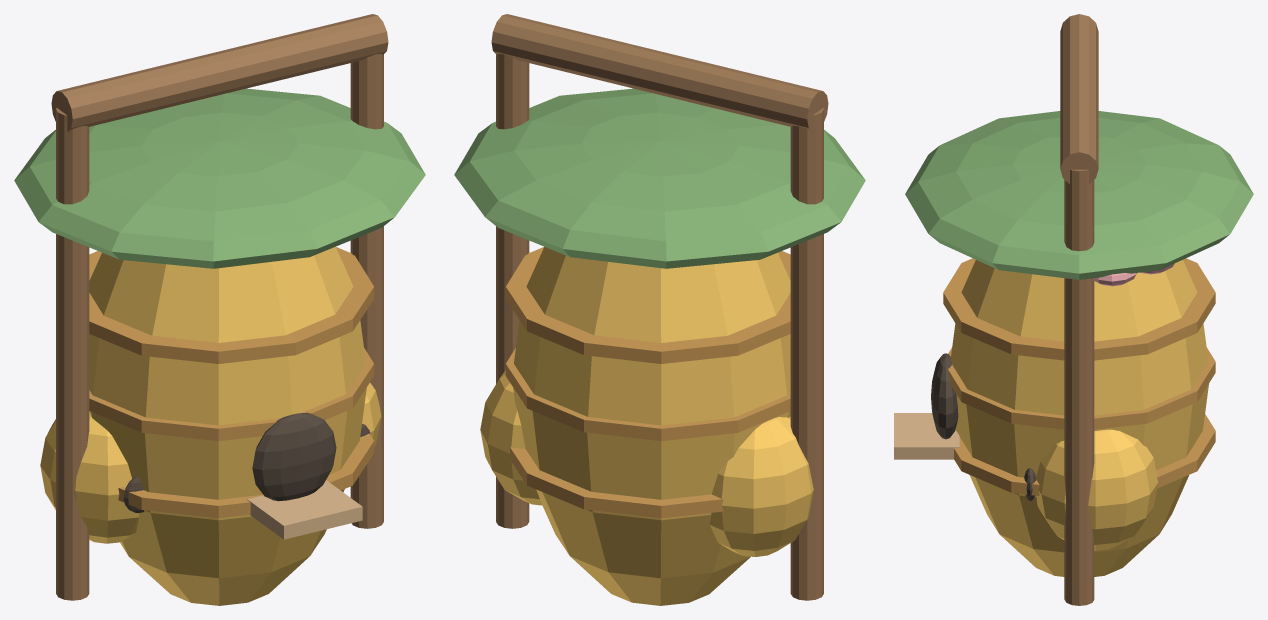
File: BeeLantern3.fbx
3 views of the same model, side by side, from view 1: azimuth 30°, elevation 25°; view 2: azimuth 150°, elevation 25°; view 3: azimuth 270°, elevation 25° (orthographic). The views are drawn at different scales.
Parts seen in each view (by area): view 1: Honey lantern body.002, Honey roof.002, Hanging garden beam.002, Hanging garden post.004, Amber honey band.005, Hanging garden post.005, Companion honey cell.002, Hive entrance.002, Amber honey band.004, Landing perch.002, Amber honey band.003, Companion honey cell.003; view 2: Honey lantern body.002, Honey roof.002, Hanging garden beam.002, Hanging garden post.004, Companion honey cell.002, Amber honey band.005, Hanging garden post.005, Amber honey band.004, Amber honey band.003, Companion honey cell.003; view 3: Honey roof.002, Honey lantern body.002, Hanging garden post.005, Companion honey cell.003, Amber honey band.005, Hanging garden beam.002, Amber honey band.004, Amber honey band.003, Landing perch.002, Hive entrance.002.
Boxes of the visible parts, x1,y1,x2,y2 form: Honey lantern body.002: (89, 247, 366, 605); Honey roof.002: (14, 88, 425, 268); Hanging garden beam.002: (51, 14, 388, 131); Hanging garden post.004: (56, 108, 89, 600); Amber honey band.005: (89, 247, 374, 363); Hanging garden post.005: (350, 54, 383, 528); Companion honey cell.002: (40, 411, 139, 543); Hive entrance.002: (252, 412, 336, 501); Amber honey band.004: (89, 348, 374, 441); Landing perch.002: (247, 480, 362, 539); Amber honey band.003: (118, 433, 374, 518); Companion honey cell.003: (362, 383, 381, 447); Honey lantern body.002: (513, 247, 790, 605); Honey roof.002: (454, 88, 865, 268); Hanging garden beam.002: (491, 14, 828, 131); Hanging garden post.004: (790, 108, 823, 600); Companion honey cell.002: (709, 417, 813, 556); Amber honey band.005: (505, 247, 790, 363); Hanging garden post.005: (496, 54, 529, 528); Amber honey band.004: (505, 348, 790, 441); Amber honey band.003: (509, 447, 723, 518); Companion honey cell.003: (480, 370, 542, 505); Honey roof.002: (905, 111, 1253, 279); Honey lantern body.002: (950, 260, 1208, 576); Hanging garden post.005: (1064, 169, 1094, 605); Companion honey cell.003: (1036, 429, 1158, 550); Amber honey band.005: (943, 258, 1215, 360); Hanging garden beam.002: (1060, 14, 1098, 183); Amber honey band.004: (948, 347, 1215, 429); Amber honey band.003: (954, 414, 1215, 495); Landing perch.002: (894, 413, 959, 459); Hive entrance.002: (931, 353, 958, 439).
Bounding box in the file's own units: 138 × 198 × 132.
